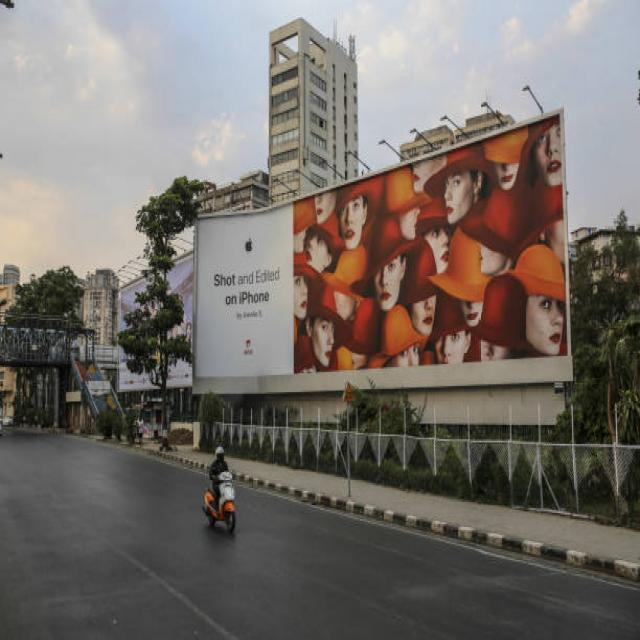Werbetafel frei: (195, 167, 573, 381)
